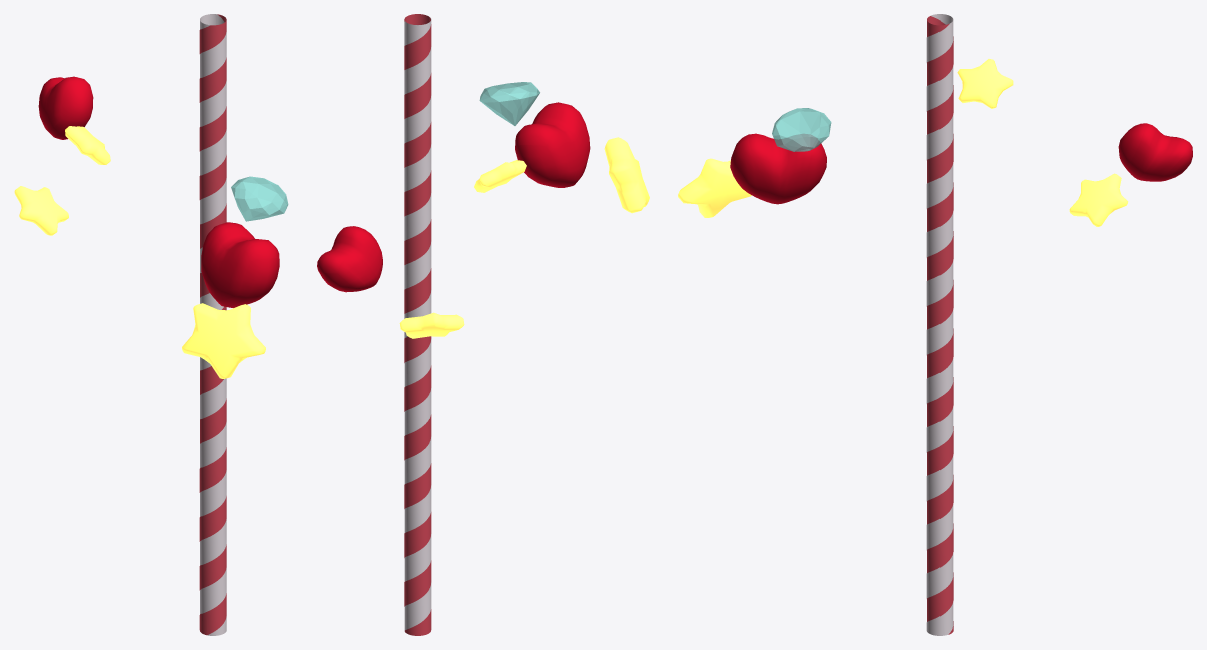
File: straw test.fbx
3 renders of one model, left to right at view 1: azimuth 30°, elevation 25°; view 2: azimuth 150°, elevation 25°; view 3: azimuth 270°, elevation 25°, orthographic.
Parts seen in each view (by area): view 1: Object_8; view 2: Object_8; view 3: Object_8.
Boxes of the visible parts, <box> form: Object_8: <box>14,14,288,635</box>; Object_8: <box>317,14,649,635</box>; Object_8: <box>678,14,1192,635</box>.
Size of the model in its own units: 177 by 742 by 567.
